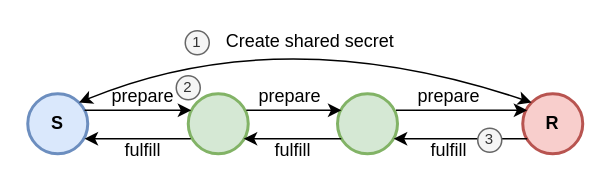
Image size: 609x191. Some labels were removed from this diagram. The shapes that lost their labels are listed below. From the top down, each one's centre as x and y in pixels, then its label:
At point (217, 123): "C 1".
At point (366, 123): "C 2".
